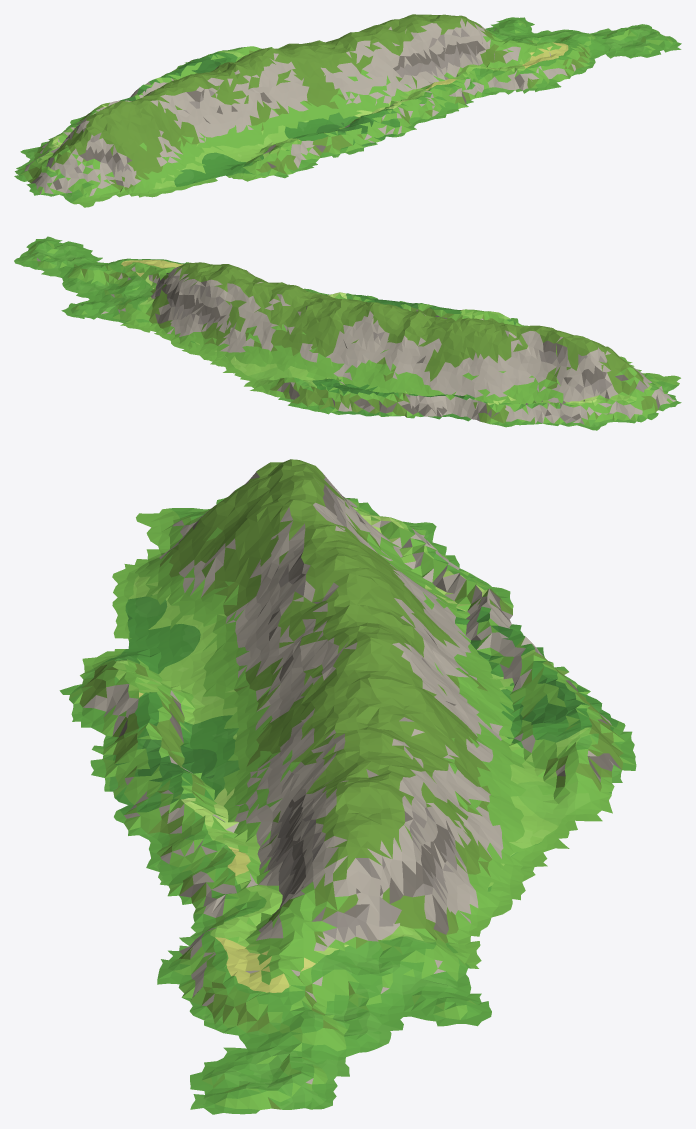
The model's file is Isl-long5-Relief.fbx.
The picture shows the model from 3 angles, top to bottom: view 1: azimuth 30°, elevation 25°; view 2: azimuth 150°, elevation 25°; view 3: azimuth 270°, elevation 25°; orthographic projection. The views are drawn at different scales.
Visible parts, largest first — view 1: Isl-long5-Relief-c11, Isl-long5-Relief-c21, Isl-long5-Relief-c31, Isl-long5-Relief-c22, Isl-long5-Relief-c12; view 2: Isl-long5-Relief-c22, Isl-long5-Relief-c12, Isl-long5-Relief-c11, Isl-long5-Relief-c21, Isl-long5-Relief-c31; view 3: Isl-long5-Relief-c21, Isl-long5-Relief-c22, Isl-long5-Relief-c11, Isl-long5-Relief-c12, Isl-long5-Relief-c31.
Boxes of the visible parts, x1,y1,x2,y2 form: Isl-long5-Relief-c11: (14, 49, 337, 207); Isl-long5-Relief-c21: (271, 14, 593, 156); Isl-long5-Relief-c31: (554, 24, 681, 64); Isl-long5-Relief-c22: (213, 14, 554, 62); Isl-long5-Relief-c12: (20, 48, 269, 165); Isl-long5-Relief-c22: (61, 267, 374, 409); Isl-long5-Relief-c12: (309, 302, 626, 430); Isl-long5-Relief-c11: (375, 302, 681, 423); Isl-long5-Relief-c21: (85, 258, 432, 314); Isl-long5-Relief-c31: (14, 236, 111, 286); Isl-long5-Relief-c21: (90, 637, 371, 1029); Isl-long5-Relief-c22: (366, 637, 636, 1029); Isl-long5-Relief-c11: (59, 459, 371, 749); Isl-long5-Relief-c12: (366, 509, 634, 750); Isl-long5-Relief-c31: (190, 1005, 370, 1114).
Bounding box in the file's own units: 134 × 11.55 × 52.37.
